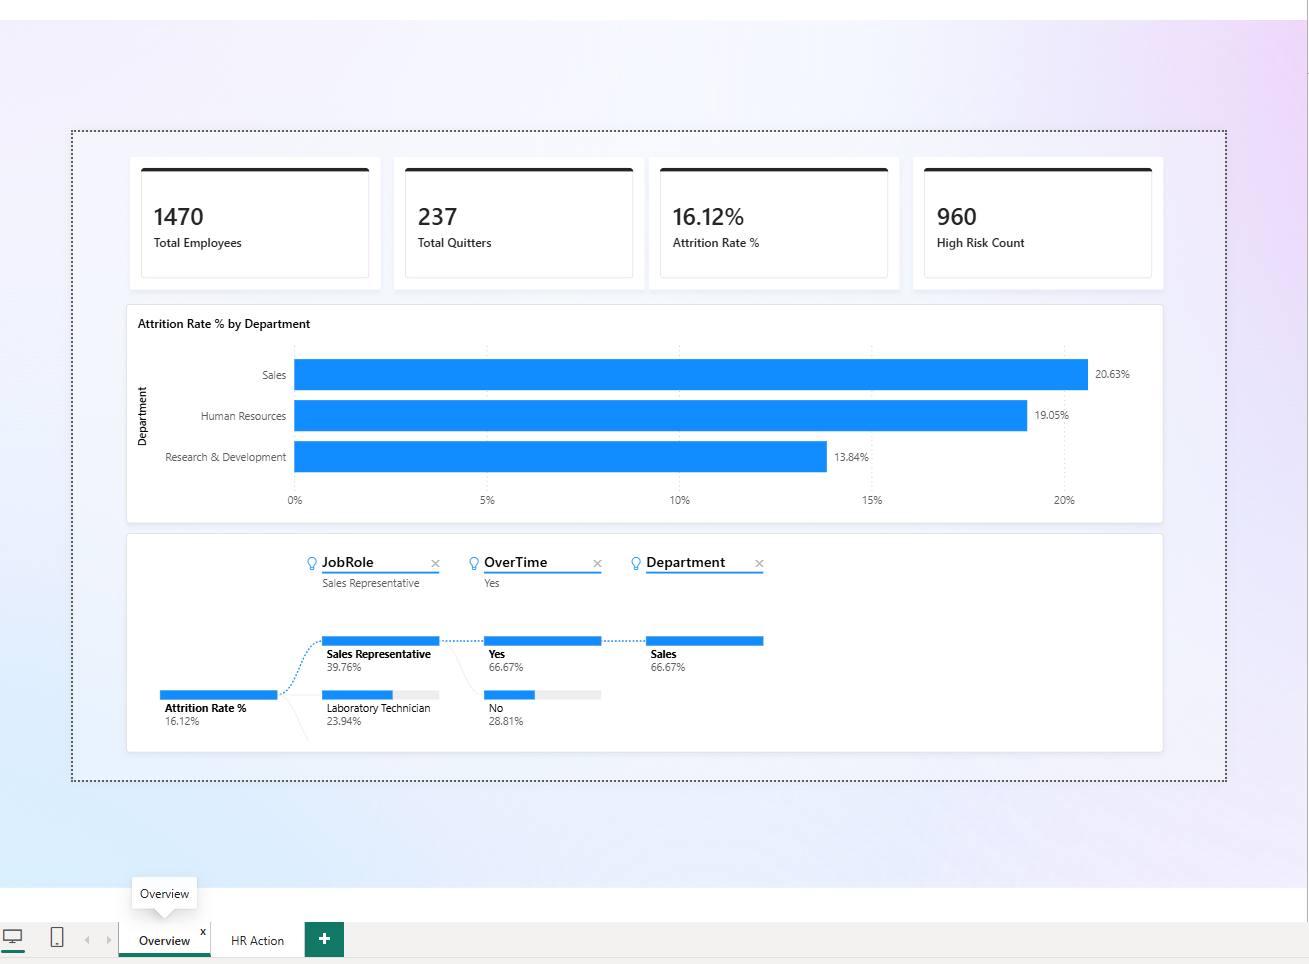

What the dashboard file says about the page in this screenshot:
{"tool":"powerbi","page":{"name":"Overview","canvas":[1280,720],"ordinal":0},"visuals":[{"type":"cardVisual","fields":{"Data":["hr_attrition_cleaned.High Risk Count"]},"box":[933.3,27.8,278.9,147.8],"z":0},{"type":"cardVisual","fields":{"Data":["hr_attrition_cleaned.Total Employees"]},"box":[63.3,27.8,278.9,147.8],"z":1},{"type":"cardVisual","fields":{"Data":["hr_attrition_cleaned.Total Quitters"]},"box":[356.7,27.8,278.9,147.8],"z":2},{"type":"cardVisual","fields":{"Data":["hr_attrition_cleaned.Attrition Rate %"]},"box":[640,27.8,278.9,147.8],"z":3},{"type":"clusteredBarChart","fields":{"Y":["hr_attrition_cleaned.Attrition Rate %"],"Category":["hr_attrition_cleaned.Department"]},"box":[59.3,190.6,1152.6,244.1],"z":4},{"type":"decompositionTreeVisual","fields":{"Analyze":["hr_attrition_cleaned.Attrition Rate %"],"ExplainBy":["hr_attrition_cleaned.JobRole","hr_attrition_cleaned.OverTime","hr_attrition_cleaned.Department"]},"box":[59,445.5,1153,244],"z":5}]}

Visuals, with their boxes on the page's 1280x720 design canvas (x1, y1, x2, y2). These are canvas units, not pixel positions in the 1309x964 screenshot, which may show the page scaled, cropped or inside an application window:
cardVisual - hr_attrition_cleaned.High Risk Count: (933, 28, 1212, 176)
cardVisual - hr_attrition_cleaned.Total Employees: (63, 28, 342, 176)
cardVisual - hr_attrition_cleaned.Total Quitters: (357, 28, 636, 176)
cardVisual - hr_attrition_cleaned.Attrition Rate %: (640, 28, 919, 176)
clusteredBarChart - hr_attrition_cleaned.Attrition Rate % x hr_attrition_cleaned.Department: (59, 191, 1212, 435)
decompositionTreeVisual - hr_attrition_cleaned.Attrition Rate % x hr_attrition_cleaned.JobRole: (59, 446, 1212, 690)
